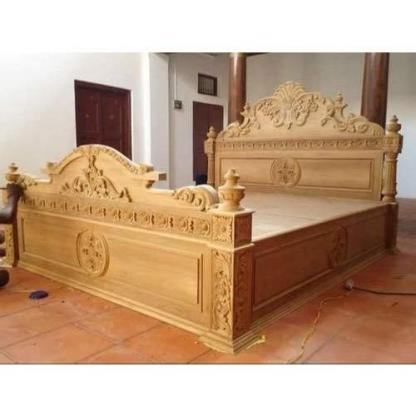bed: (4, 107, 407, 334)
door: (68, 89, 134, 156), (187, 102, 225, 179)
